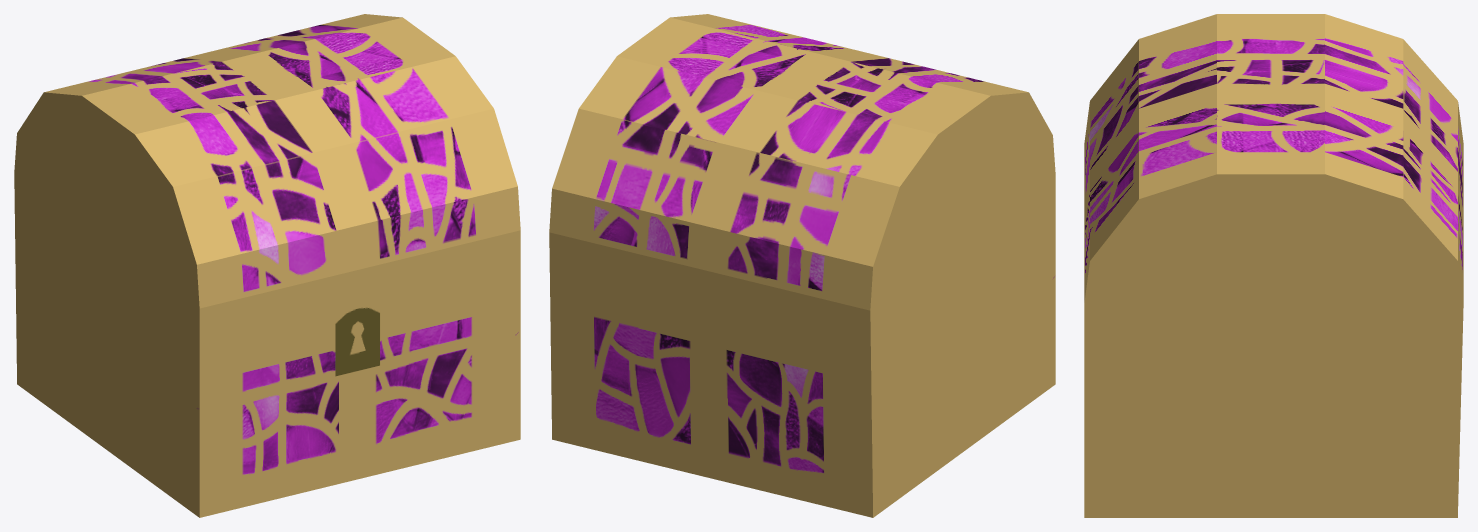
The model's file is chest04.glb.
3 views of the same model, side by side, from view 1: azimuth 30°, elevation 25°; view 2: azimuth 150°, elevation 25°; view 3: azimuth 270°, elevation 25° (orthographic). The views are drawn at different scales.
Visible parts, largest first — view 1: chest04; view 2: chest04; view 3: chest04.
Part boxes in pixels (box(x1,y1,x2,y2)): chest04: box(14, 14, 520, 517); chest04: box(549, 14, 1055, 517); chest04: box(1084, 14, 1463, 517).
Bounding box in the file's own units: 1 × 1 × 1.
Materials: 1 (1 with a texture image).
